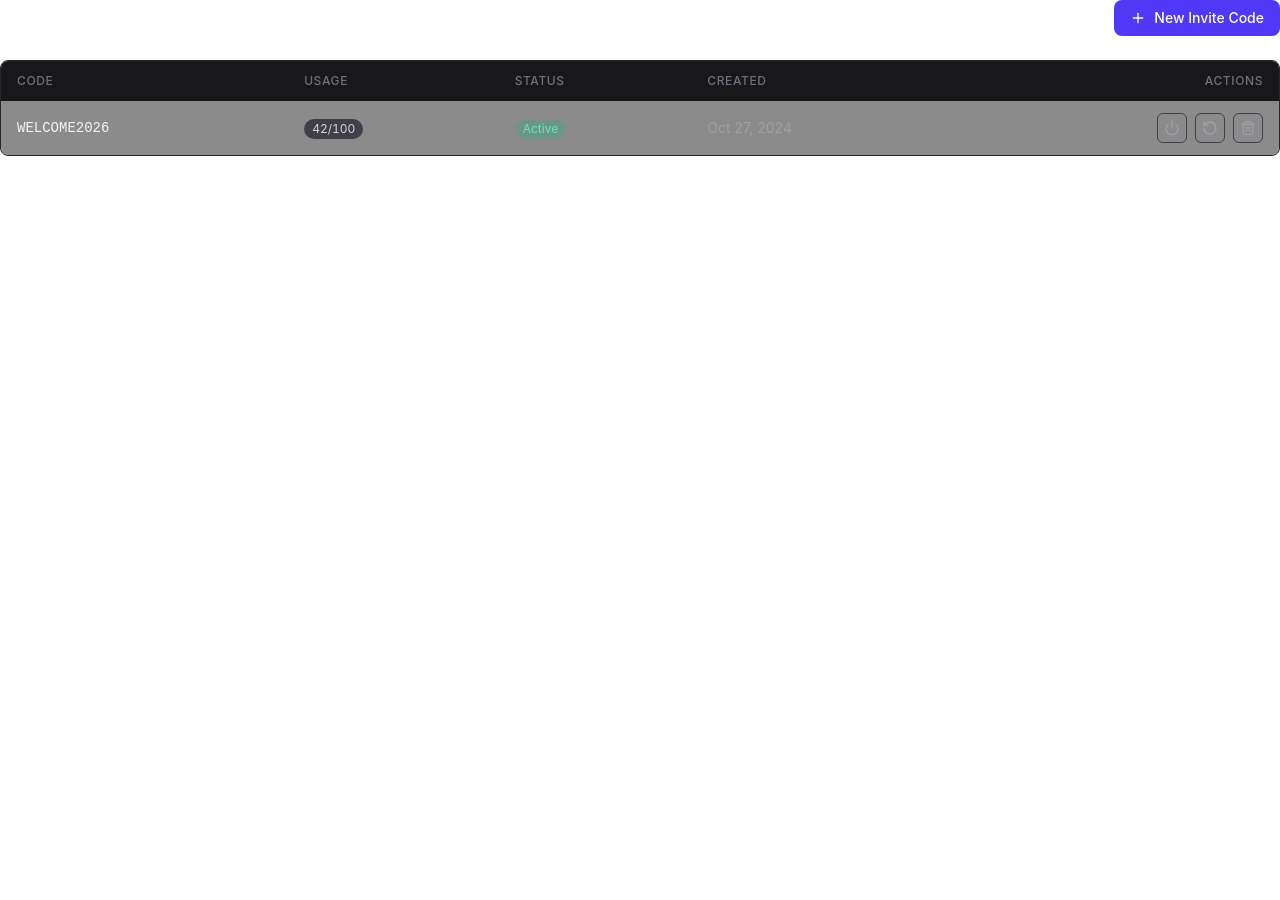
Test: AdminInviteCodesPage › opens a confirm dialog when delete is clicked
Click the button named "Delete WELCOME2026" at (1248,128), box [1233, 113, 1263, 143]
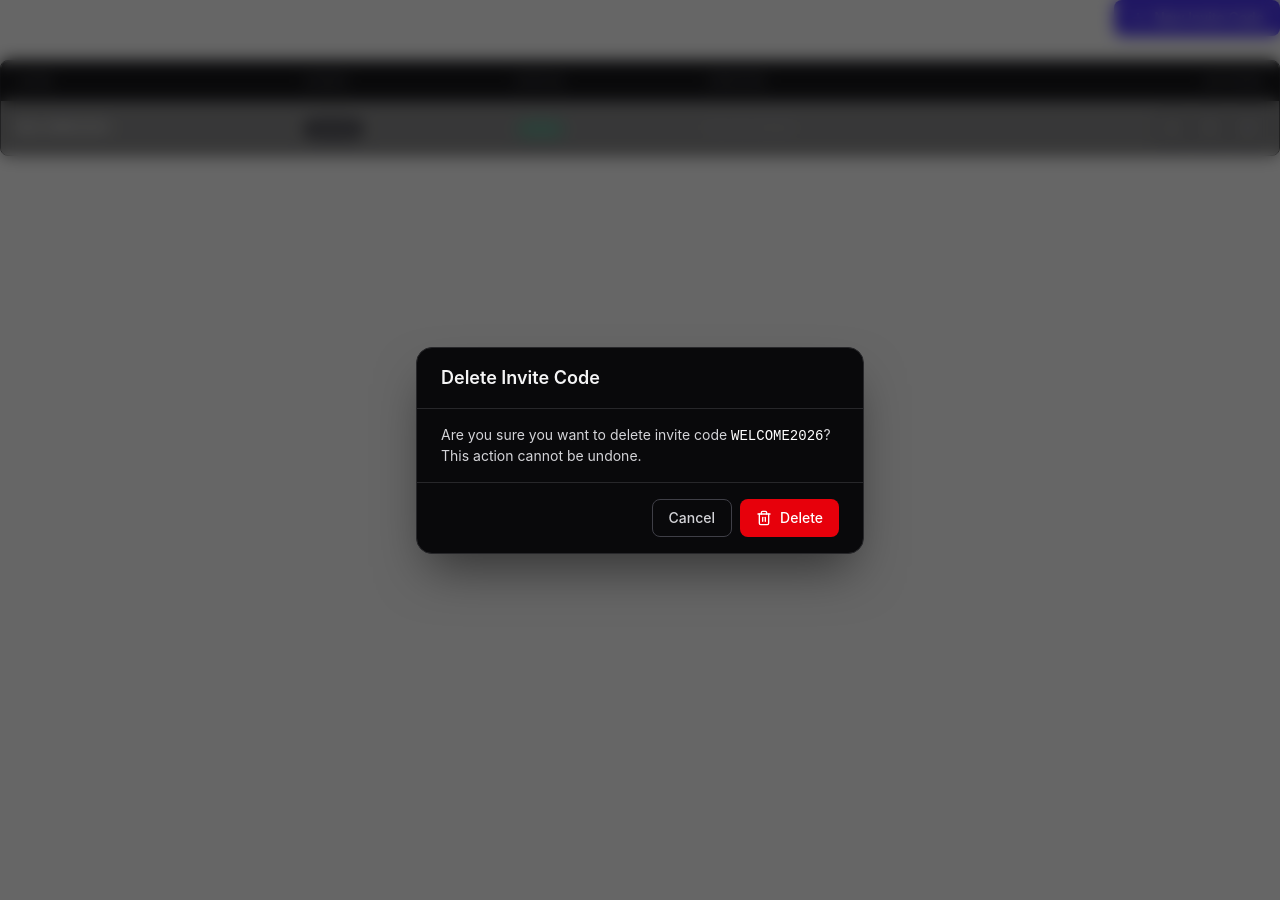
Expected: the text "Are you sure" is shown, [441, 426, 727, 442]
